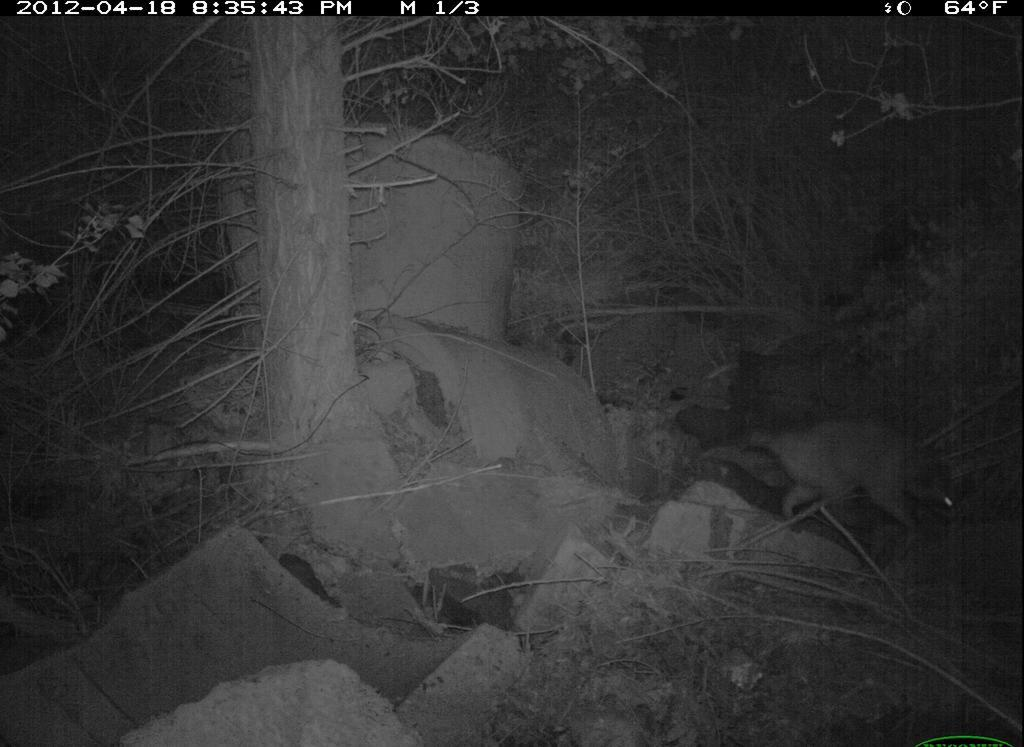raccoon: (726, 413, 972, 556)
